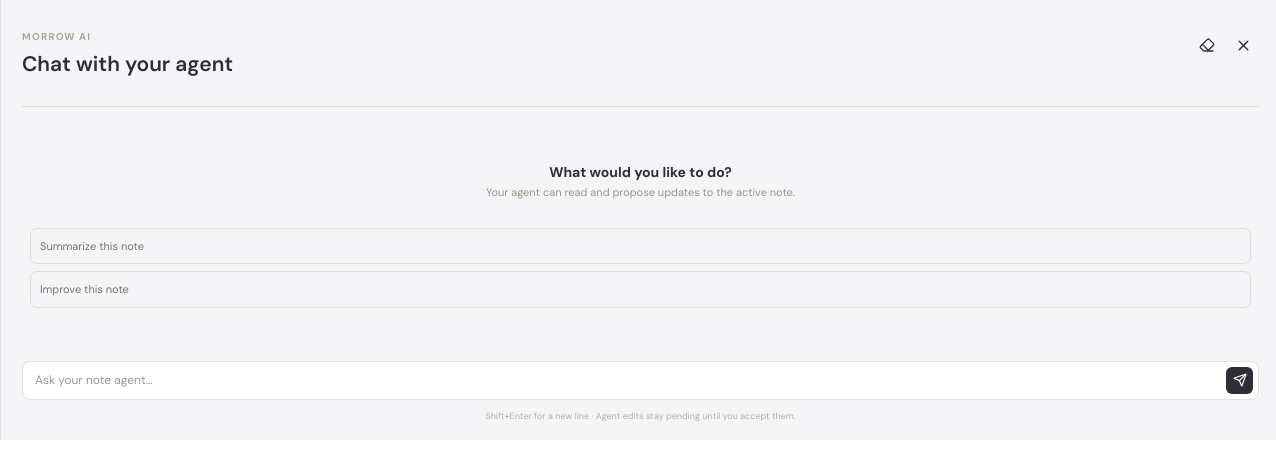
Test: AgentPanel › clears messages and draft input
Step 1. Type "Remember this" into the text box named "Chat message" → (628, 380), box 35,366 -> 1220,394
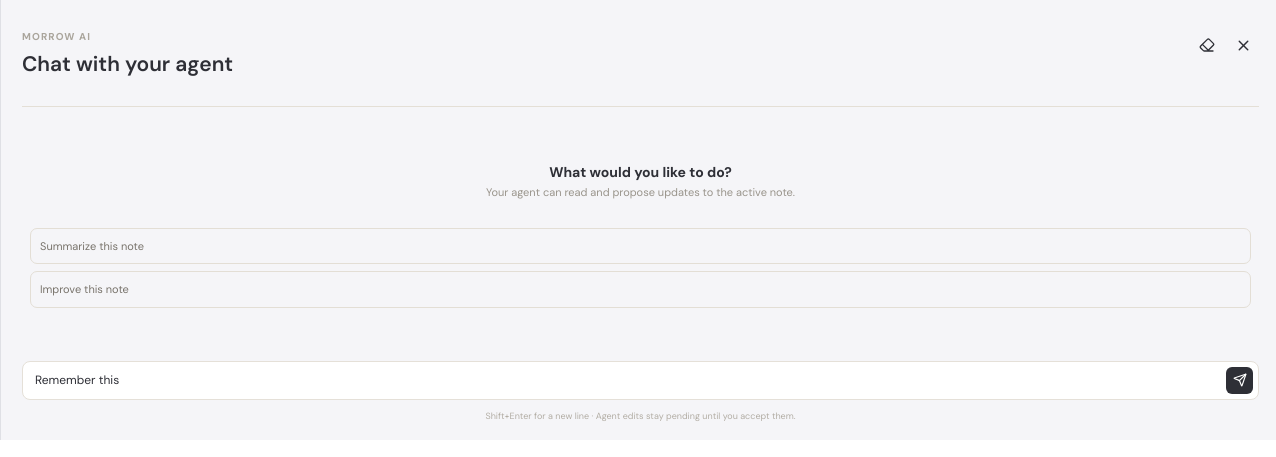
Step 2. Click the button named "Send message" → (1240, 380), box 1226,366 -> 1253,394
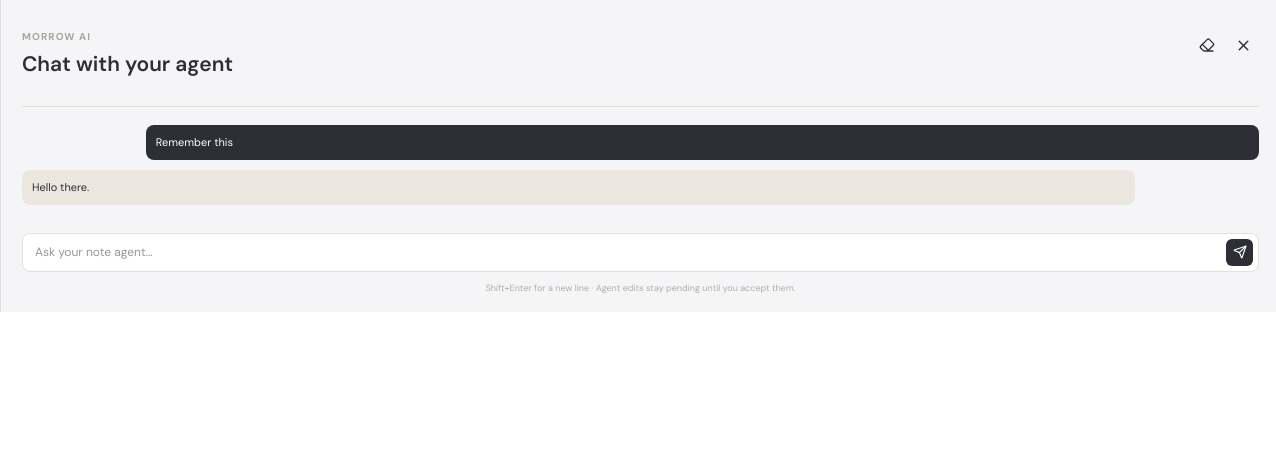
Expected: the text "Hello there." is shown, 32,180 -> 89,194
Step 3. Type "Draft text" into the text box named "Chat message" → (628, 252), box 35,239 -> 1220,266
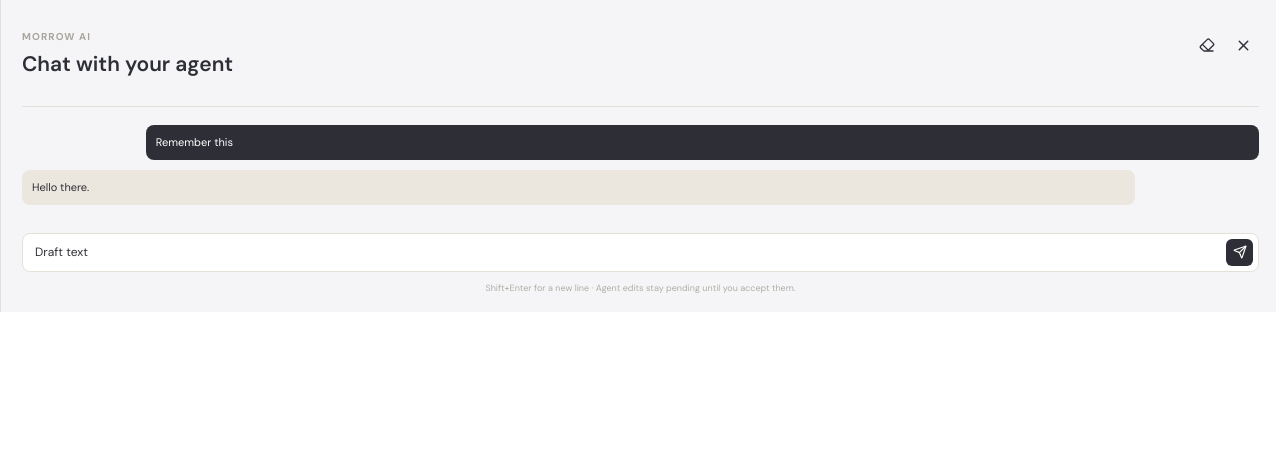
Step 4. Click the button named "Clear chat" → (1207, 45), box 1191,29 -> 1223,61
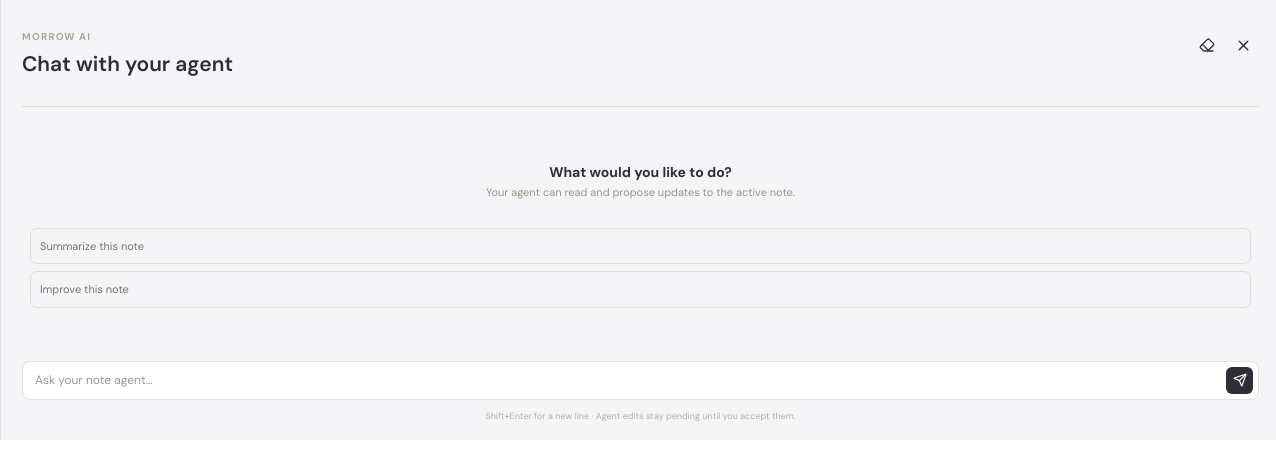
Expected: the text "What would you like to do?" is shown, 549,162 -> 732,180
Expected: the text "Hello there." is gone
Expected: the text box named "Chat message" is empty, 35,366 -> 1220,394
